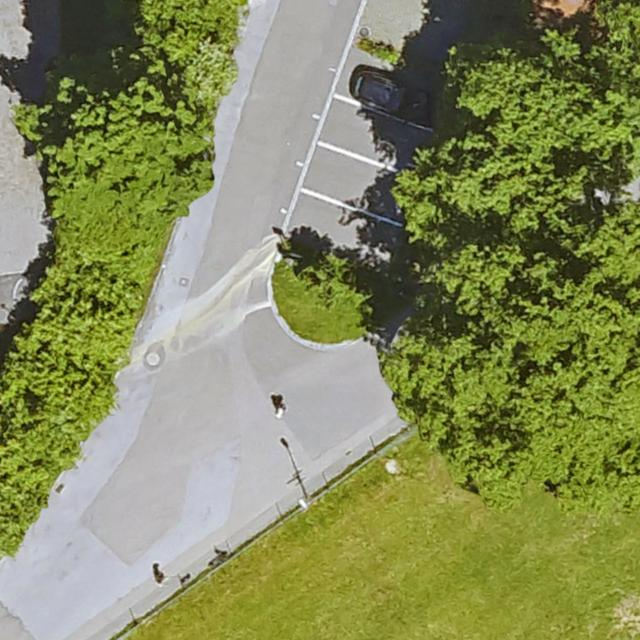tree: (451, 42, 613, 230), (499, 316, 638, 482), (43, 95, 207, 225), (389, 313, 497, 444), (0, 367, 103, 467), (38, 265, 130, 368), (103, 8, 215, 83), (424, 230, 525, 312), (306, 262, 352, 304)
